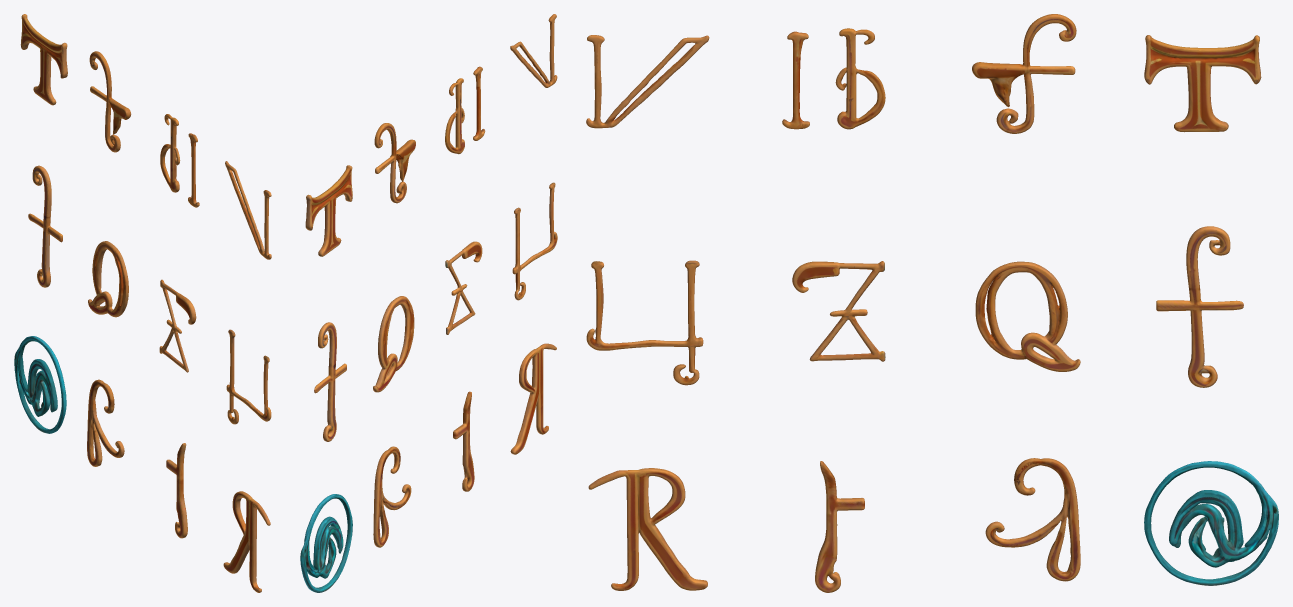
The picture shows the model from 3 angles, left to right: view 1: azimuth 30°, elevation 25°; view 2: azimuth 150°, elevation 25°; view 3: azimuth 270°, elevation 25°; orthographic projection. The views are drawn at different scales.
Parts seen in each view (by area): view 1: tripo_node_f5ef93af-43e7-4f64-a646-954bd89ed2ac; view 2: tripo_node_f5ef93af-43e7-4f64-a646-954bd89ed2ac; view 3: tripo_node_f5ef93af-43e7-4f64-a646-954bd89ed2ac.
Boxes of the visible parts, x1,y1,x2,y2 form: tripo_node_f5ef93af-43e7-4f64-a646-954bd89ed2ac: [14, 14, 271, 592]; tripo_node_f5ef93af-43e7-4f64-a646-954bd89ed2ac: [300, 14, 557, 592]; tripo_node_f5ef93af-43e7-4f64-a646-954bd89ed2ac: [586, 14, 1278, 592].
Size of the model in its own units: 0.0146 by 0.9216 by 1.
Materials: 1 (1 with a texture image).
